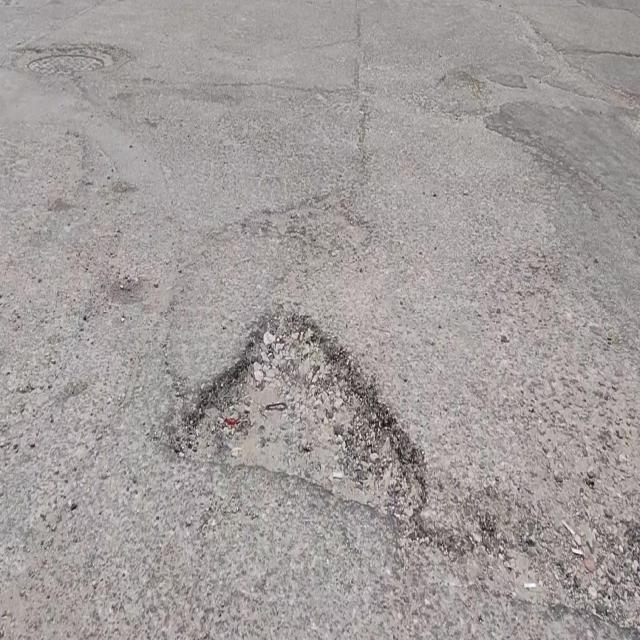Potholes: (150, 303, 436, 530)
